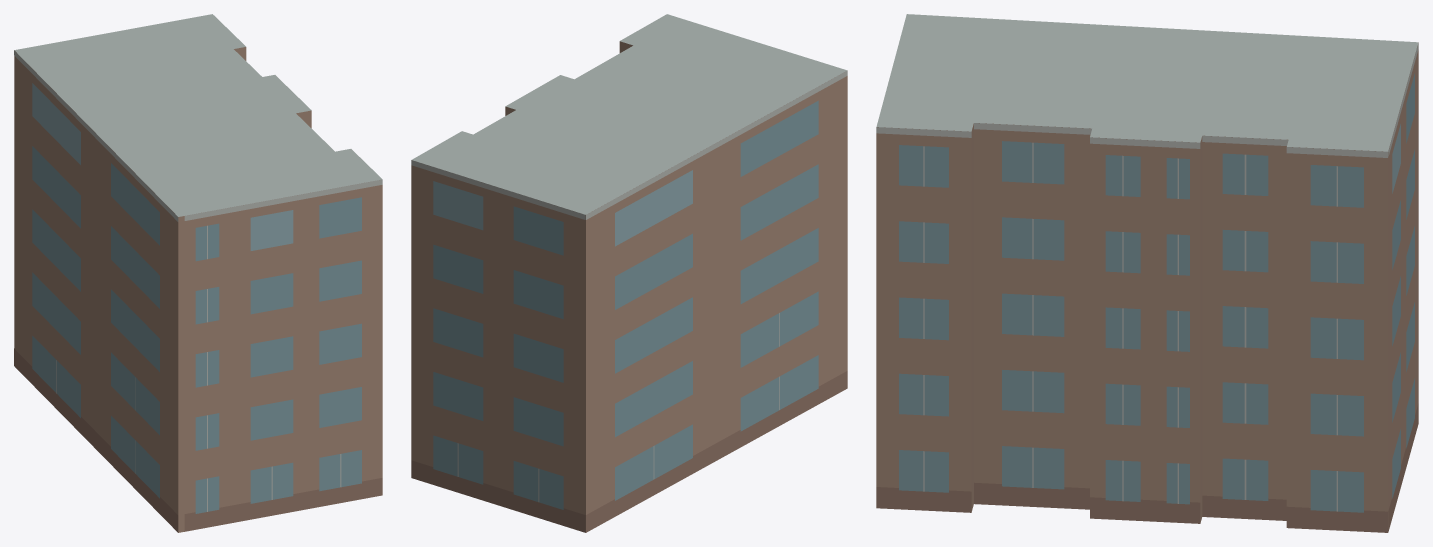
Rendered from survey-upis-32732656.glb.
3 renders of one model, left to right at view 1: azimuth 30°, elevation 25°; view 2: azimuth 150°, elevation 25°; view 3: azimuth 270°, elevation 25°, orthographic. The views are drawn at different scales.
Visible parts, largest first — view 1: survey-upis-32732656.tmp; view 2: survey-upis-32732656.tmp; view 3: survey-upis-32732656.tmp.
Part boxes in pixels (x1,y1,x2,y2): survey-upis-32732656.tmp: (14,14,382,532); survey-upis-32732656.tmp: (411,14,847,532); survey-upis-32732656.tmp: (876,14,1418,532).
Bounding box in the file's own units: 11.32 × 14.6 × 18.83.
